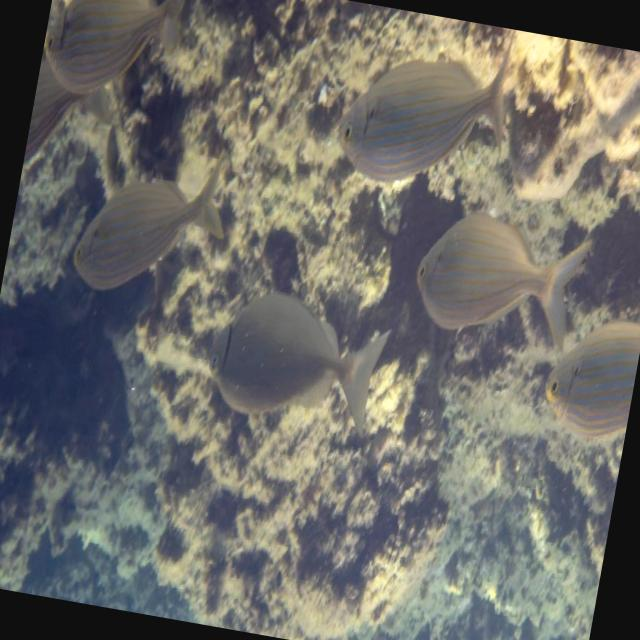Sokar Baligi: (319, 1, 531, 220), (182, 274, 400, 468), (391, 188, 602, 376), (55, 123, 244, 324)
